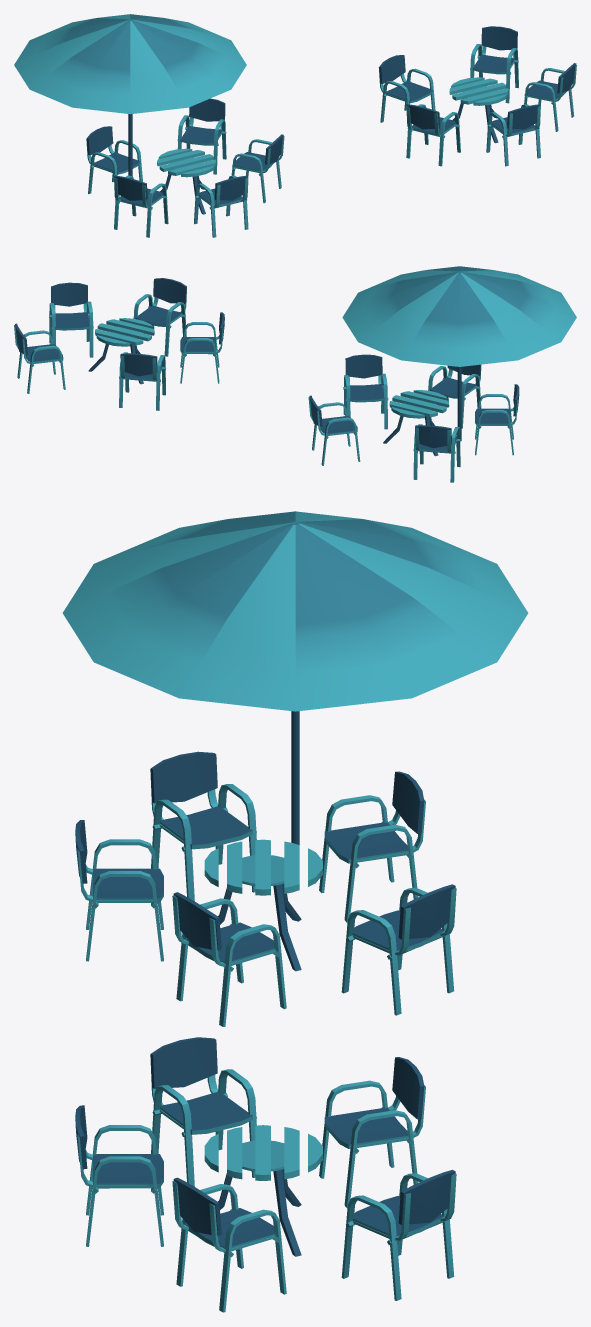
The model's file is Restaurant_LV1.FBX.
3 renders of one model, top to bottom at view 1: azimuth 30°, elevation 25°; view 2: azimuth 150°, elevation 25°; view 3: azimuth 270°, elevation 25°, orthographic. The views are drawn at different scales.
Parts seen in each view (by area): view 1: Restaurant; view 2: Restaurant; view 3: Restaurant.
Part boxes in pixels (x1,y1,x2,y2): Restaurant: [14, 14, 576, 237]; Restaurant: [14, 266, 576, 482]; Restaurant: [62, 511, 528, 1312].
Size of the model in its own units: 17.05 by 5.78 by 6.53.
